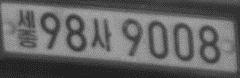0: (146, 19, 170, 59), (173, 21, 195, 61)
8: (197, 23, 221, 63), (64, 13, 88, 52)
9: (120, 17, 143, 56), (39, 10, 61, 49)
사: (90, 16, 113, 51)
세종_V: (15, 8, 39, 48)
